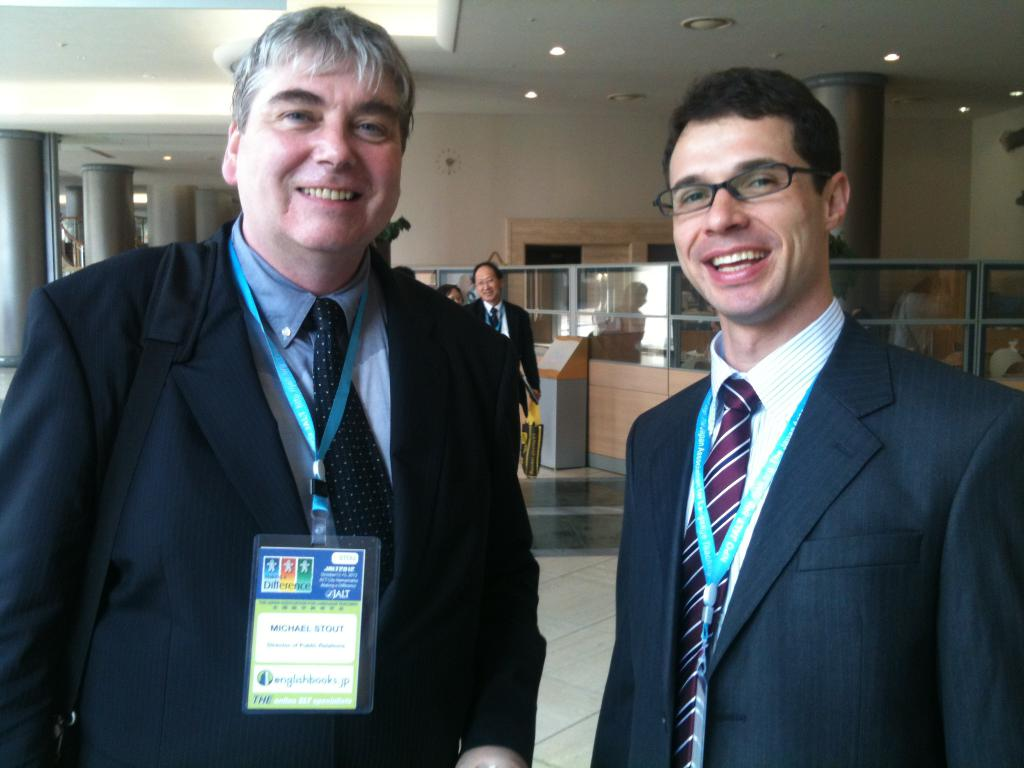Human-face: (230, 23, 414, 262), (672, 122, 826, 328), (472, 262, 497, 305)
